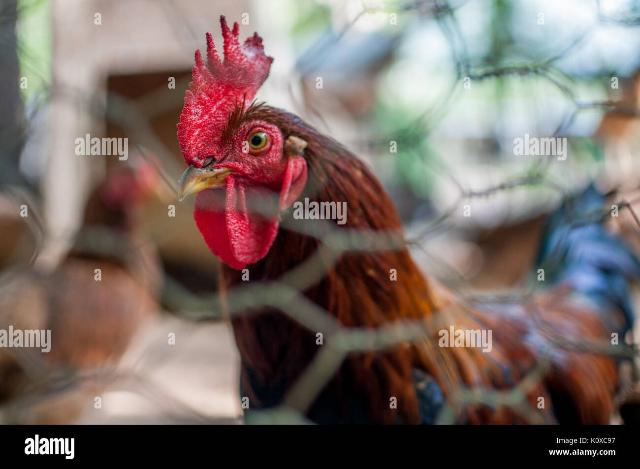Chicken: (175, 11, 638, 426)
